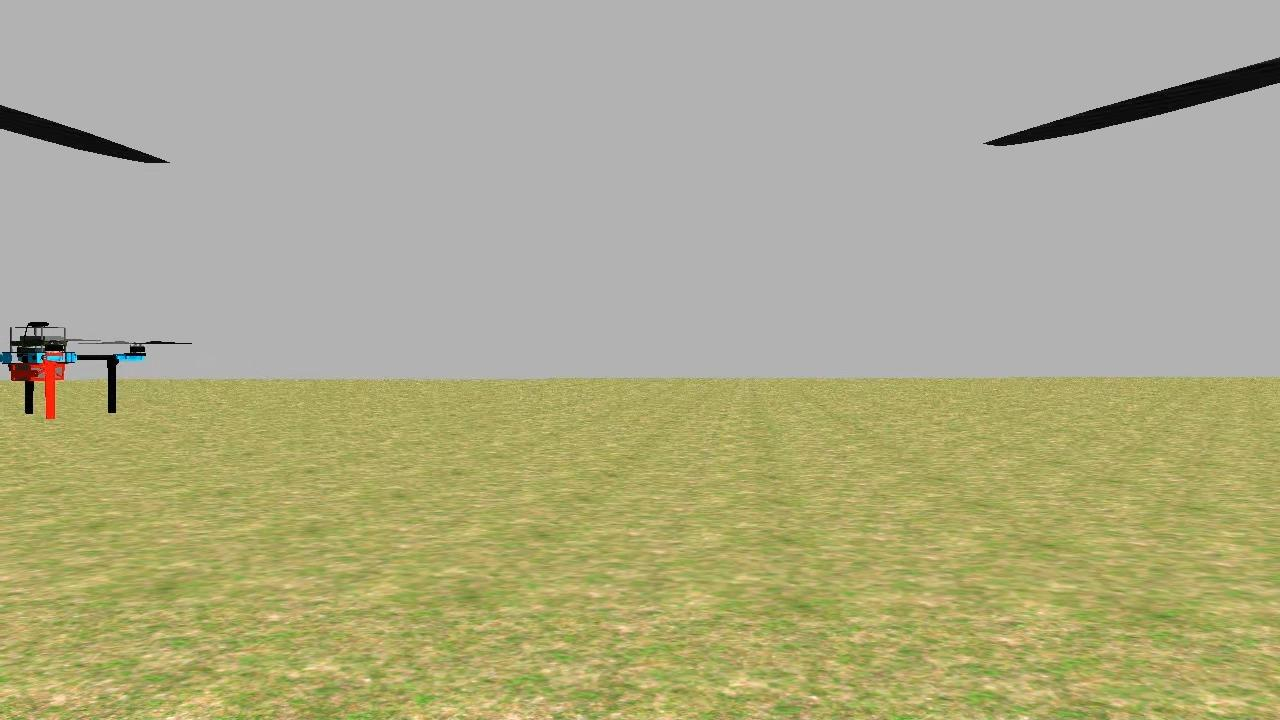UAV: (0, 308, 153, 423)
